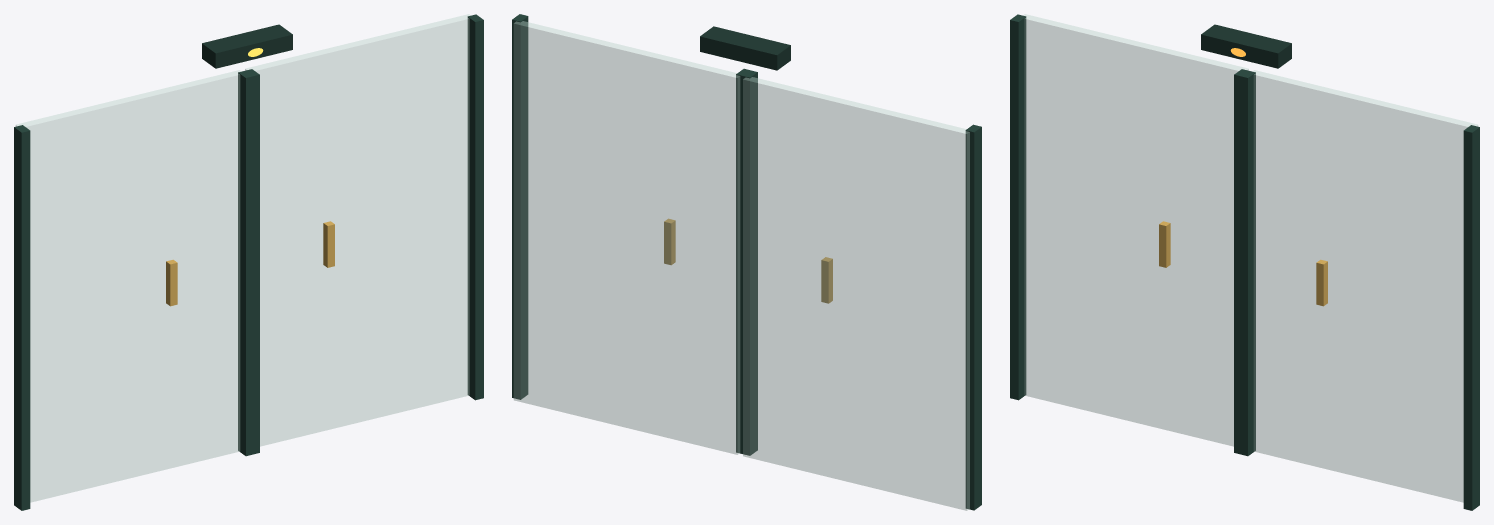
File: rear-door.glb
3 renders of one model, left to right at view 1: azimuth 30°, elevation 25°; view 2: azimuth 150°, elevation 25°; view 3: azimuth 330°, elevation 25°, orthographic.
Visible parts, largest first — view 1: n8, n3, n10, n4, n5, n9, n13, n11, n6; view 2: n3, n8, n4, n10, n5, n9, n13, n6, n11; view 3: n3, n8, n4, n10, n9, n5, n13, n6, n11.
Part boxes in pixels (x1,y1,x2,y2): n8: (245, 14, 470, 446); n3: (16, 70, 240, 502); n10: (467, 14, 483, 400); n4: (14, 125, 30, 510); n5: (238, 70, 254, 456); n9: (244, 69, 259, 454); n13: (202, 24, 292, 68); n11: (323, 221, 334, 267); n6: (166, 259, 177, 306); n3: (743, 77, 969, 510); n8: (514, 21, 739, 454); n4: (965, 124, 981, 510); n10: (512, 14, 528, 399); n5: (741, 70, 757, 455); n9: (736, 68, 748, 453); n13: (700, 26, 790, 70); n6: (821, 257, 832, 303); n11: (664, 218, 675, 264); n3: (1023, 14, 1248, 446); n8: (1253, 70, 1477, 502); n4: (1010, 14, 1026, 400); n10: (1463, 125, 1479, 510); n9: (1239, 71, 1255, 456); n5: (1234, 69, 1249, 454); n13: (1201, 24, 1291, 68); n6: (1159, 221, 1170, 267); n11: (1316, 259, 1327, 306).
Bounding box in the file's own units: 20.79 × 17.7 × 1.17.
